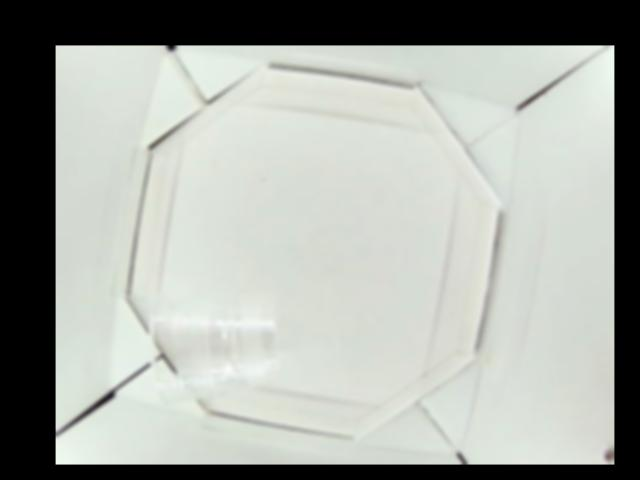Cup: (145, 310, 280, 407)
